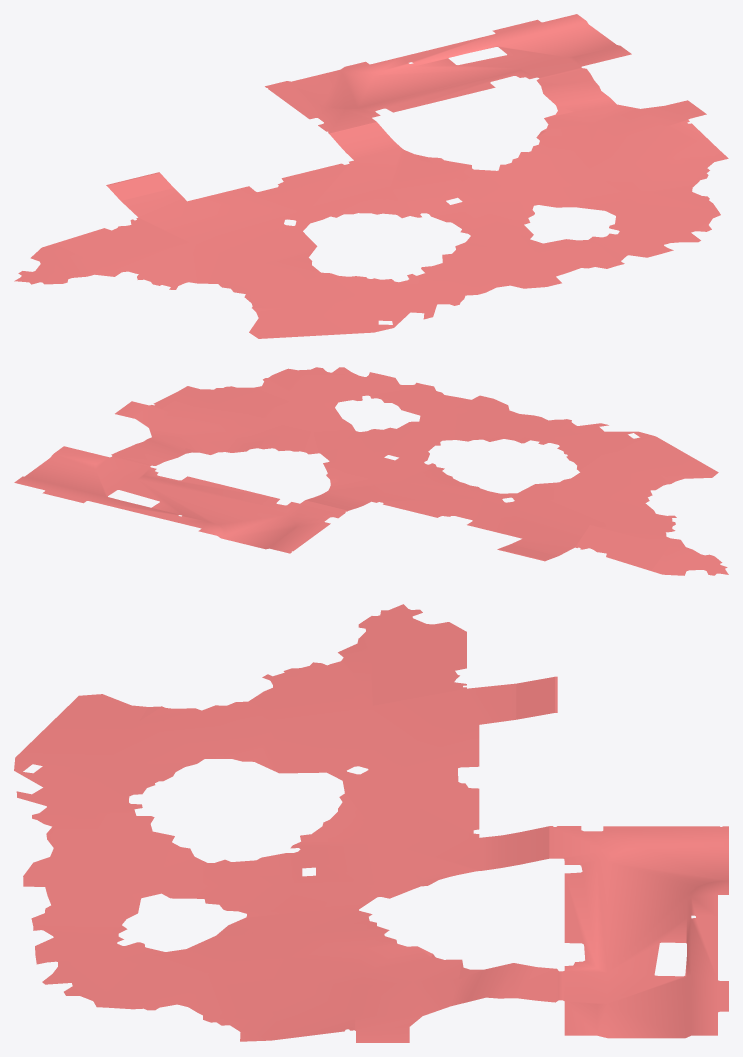
The model's file is Prohibited_BEACH.fbx.
3 views of the same model, one above another, from view 1: azimuth 30°, elevation 25°; view 2: azimuth 150°, elevation 25°; view 3: azimuth 270°, elevation 25° (orthographic). The views are drawn at different scales.
Visible parts, largest first — view 1: Sandy_Beach; view 2: Sandy_Beach; view 3: Sandy_Beach.
Boxes of the visible parts, left/top/right/bottom form: Sandy_Beach: left=14, top=14, right=728, bottom=338; Sandy_Beach: left=14, top=367, right=728, bottom=575; Sandy_Beach: left=14, top=604, right=728, bottom=1042.
Size of the model in its own units: 78.62 by 2.58 by 51.77.
